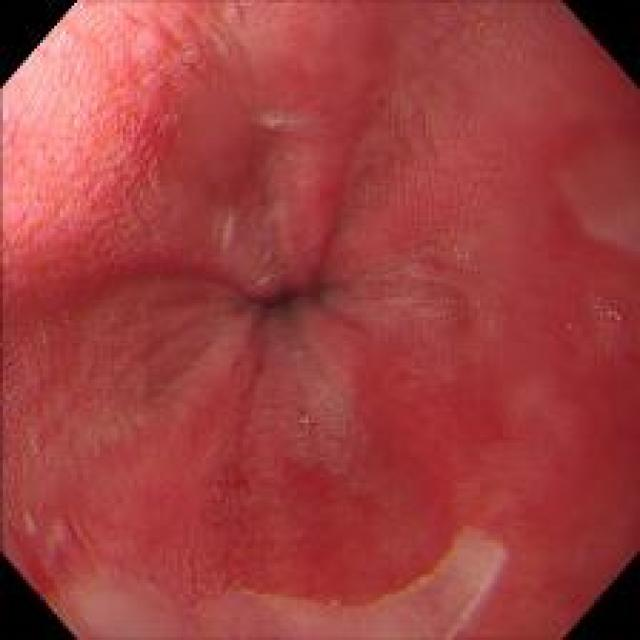blur: (2, 2, 636, 635), (102, 82, 452, 441), (385, 495, 598, 634)
bubbles: (454, 246, 471, 262), (298, 411, 311, 428)
color misalignment: (575, 291, 626, 341)
